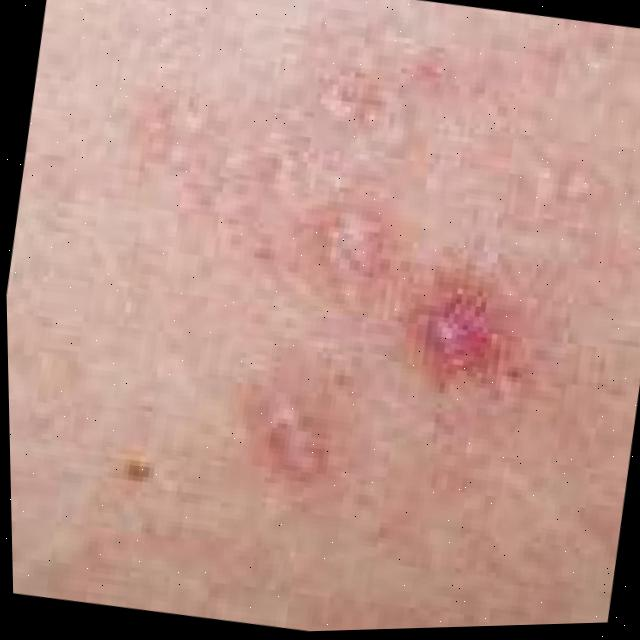Shingles: (424, 261, 518, 383)
